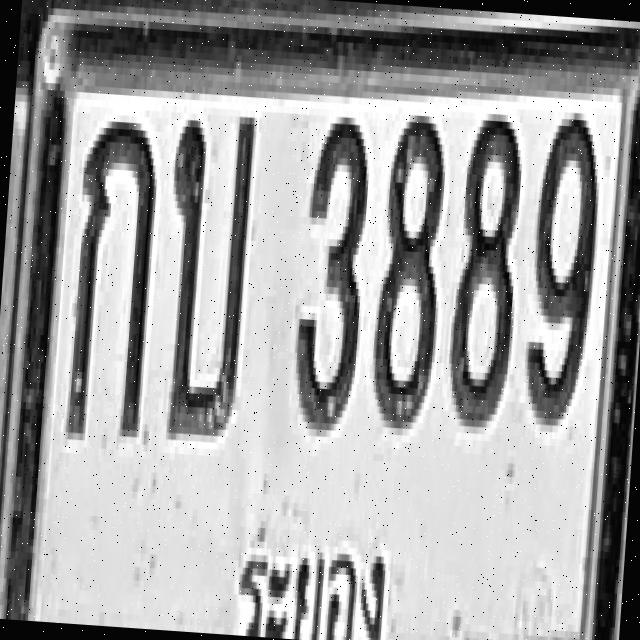10GorGai: (64, 113, 160, 437)
3: (289, 108, 373, 432)
35BorBaiMai: (155, 105, 256, 437)
8: (368, 110, 449, 426), (444, 109, 525, 425)
9: (522, 108, 603, 424)
Rayong: (226, 516, 403, 640)
